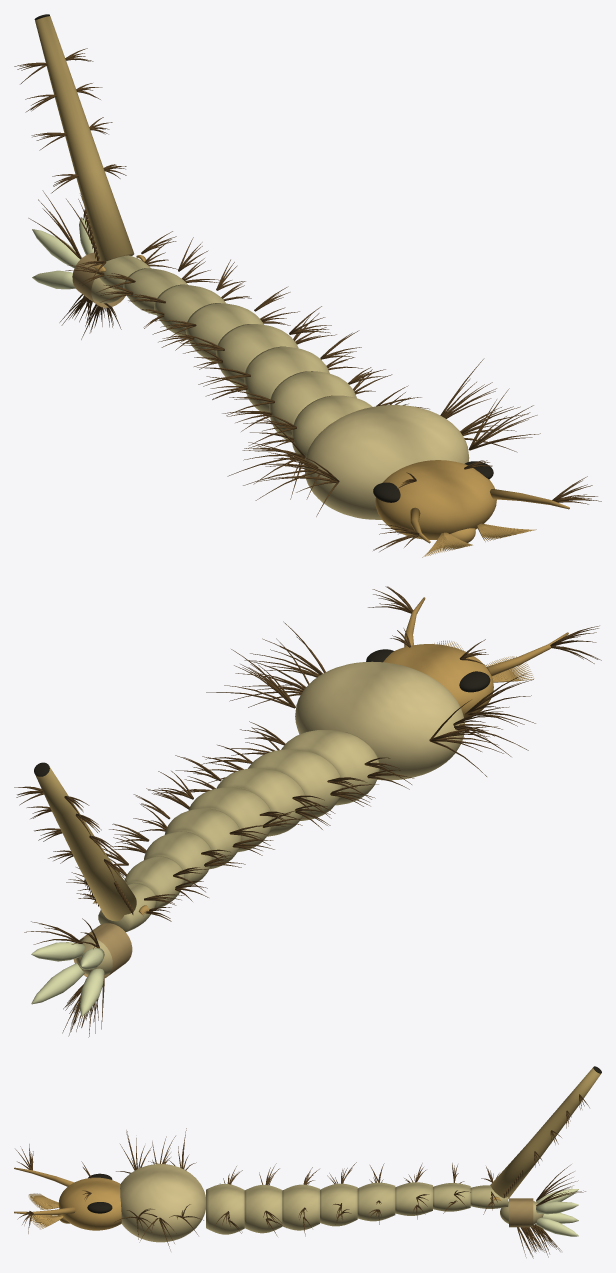
Rendered from Culex_web.glb.
3 views of the same model, one above another, from view 1: azimuth 30°, elevation 25°; view 2: azimuth 150°, elevation 25°; view 3: azimuth 270°, elevation 25° (orthographic). The views are drawn at different scales.
Visible parts, largest first — view 1: torax, cap, sifo_respiratori, setes_torax, abdomen_03, abdomen_02, abdomen_04, abdomen_05, abdomen_01, abdomen_06, abdomen_07, setes_sifo (+11 smaller); view 2: torax, sifo_respiratori, setes_torax, abdomen_01, cap, abdomen_02, abdomen_03, abdomen_04, abdomen_05, abdomen_06, abdomen_07, setes_sifo (+14 smaller); view 3: torax, sifo_respiratori, cap, abdomen_01, abdomen_02, abdomen_03, abdomen_04, abdomen_05, abdomen_06, setes_torax, abdomen_07, sella_anal (+10 smaller).
Boxes of the visible parts, x1,y1,x2,y2 form: torax: (304, 405, 469, 519); cap: (375, 460, 496, 539); sifo_respiratori: (35, 16, 134, 261); setes_torax: (227, 358, 540, 516); abdomen_03: (244, 346, 329, 412); abdomen_02: (269, 371, 356, 442); abdomen_04: (216, 324, 298, 386); abdomen_05: (185, 303, 263, 361); abdomen_01: (291, 395, 372, 459); abdomen_06: (154, 284, 226, 335); abdomen_07: (123, 268, 187, 315); setes_sifo: (14, 48, 126, 193); torax: (295, 661, 464, 780); sifo_respiratori: (35, 767, 136, 921); setes_torax: (206, 621, 535, 776); abdomen_01: (281, 730, 379, 805); cap: (383, 644, 493, 717); abdomen_02: (248, 749, 342, 820); abdomen_03: (216, 768, 306, 836); abdomen_04: (188, 787, 272, 852); abdomen_05: (164, 808, 241, 869); abdomen_06: (143, 831, 212, 888); abdomen_07: (124, 856, 184, 907); setes_sifo: (14, 786, 126, 881); torax: (120, 1164, 205, 1242); sifo_respiratori: (491, 1067, 600, 1198); cap: (58, 1177, 121, 1230); abdomen_01: (206, 1184, 244, 1234); abdomen_02: (244, 1185, 282, 1233); abdomen_03: (282, 1184, 319, 1230); abdomen_04: (320, 1183, 357, 1226); abdomen_05: (357, 1182, 395, 1221); abdomen_06: (395, 1182, 432, 1215); setes_torax: (114, 1128, 203, 1250); abdomen_07: (433, 1183, 470, 1211); sella_anal: (509, 1198, 533, 1227).
Bounding box in the file's own units: 4.01 × 3.97 × 11.24.
